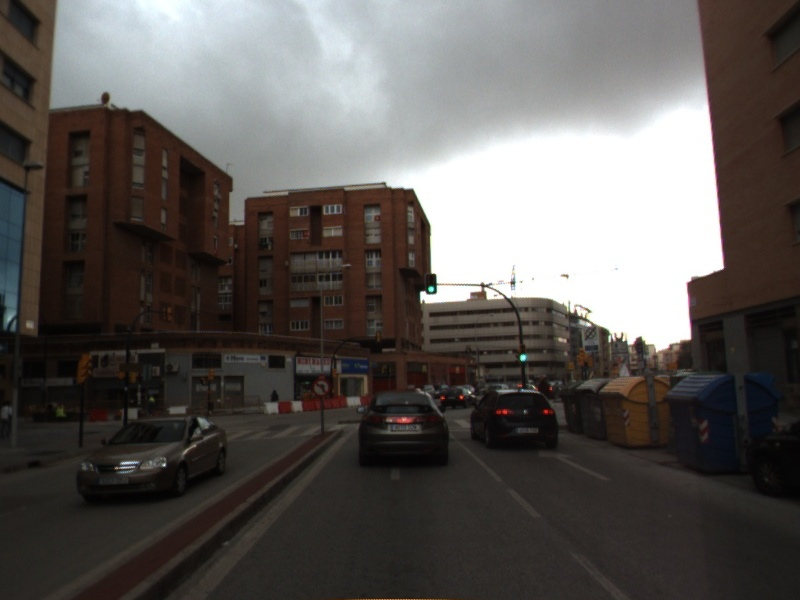STRAIGHT: (536, 447, 612, 482)
